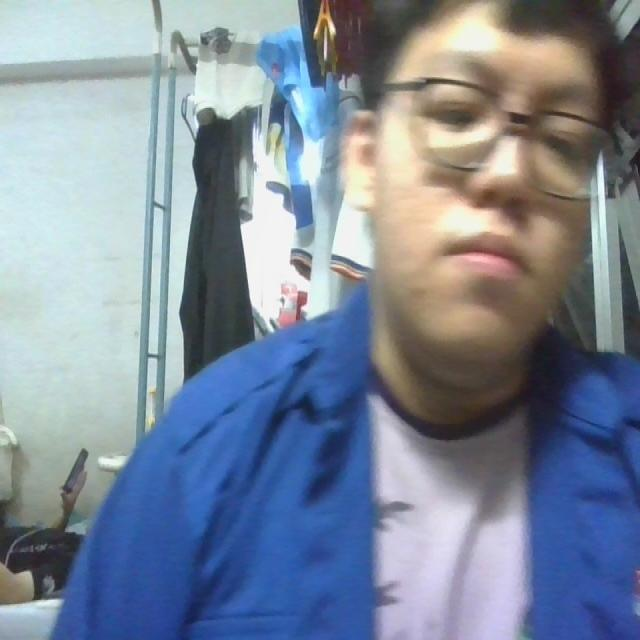person_with_labcoat: (53, 0, 639, 639)
